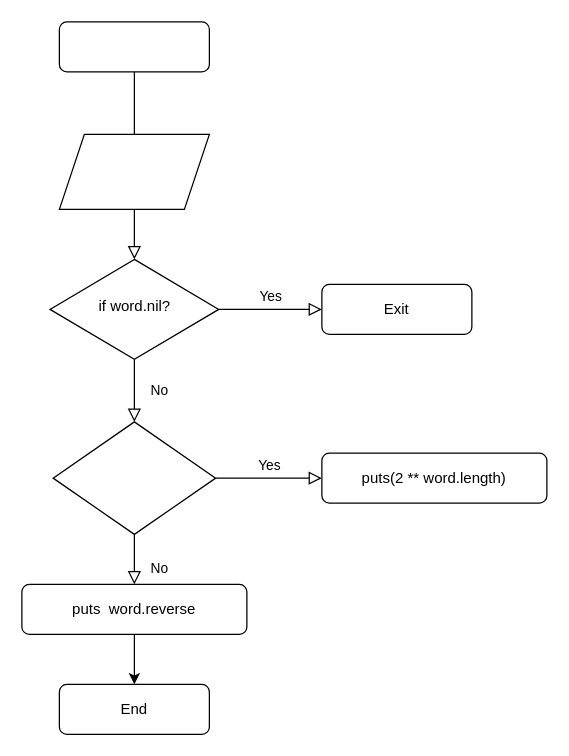
This 569x756 diagram has some shape labels left out. Each missing label, with the centre of its shape:
gets word: point (133, 171)
Start: point (133, 46)
word end =='cs': point (134, 477)
